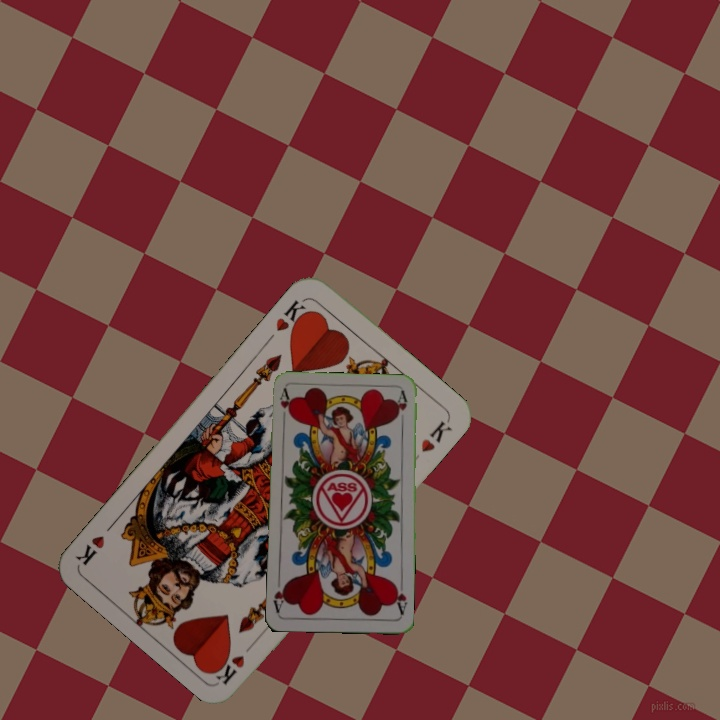HA: (390, 578, 410, 618), (275, 386, 294, 426)
HK: (212, 635, 260, 687), (271, 295, 313, 337)
